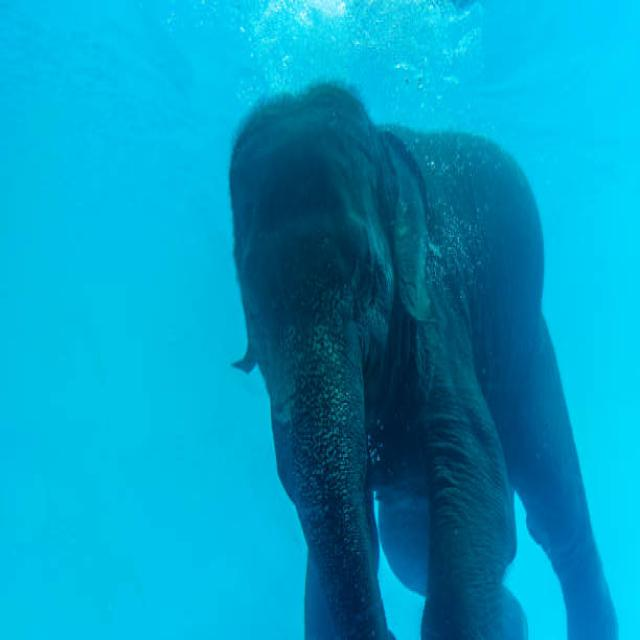Elephant: (223, 77, 627, 640)
